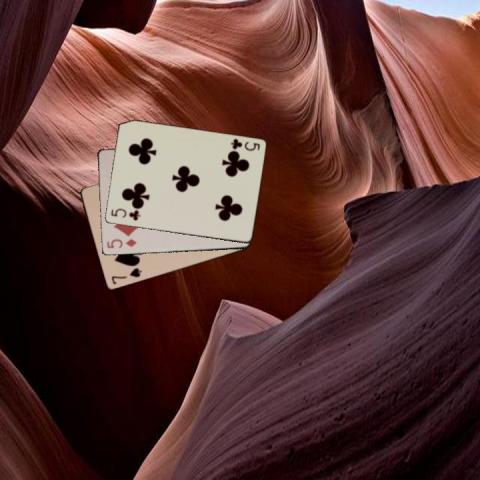5c: (227, 136, 261, 153), (108, 206, 141, 222)
5d: (103, 236, 138, 249)
7s: (109, 265, 143, 286)
